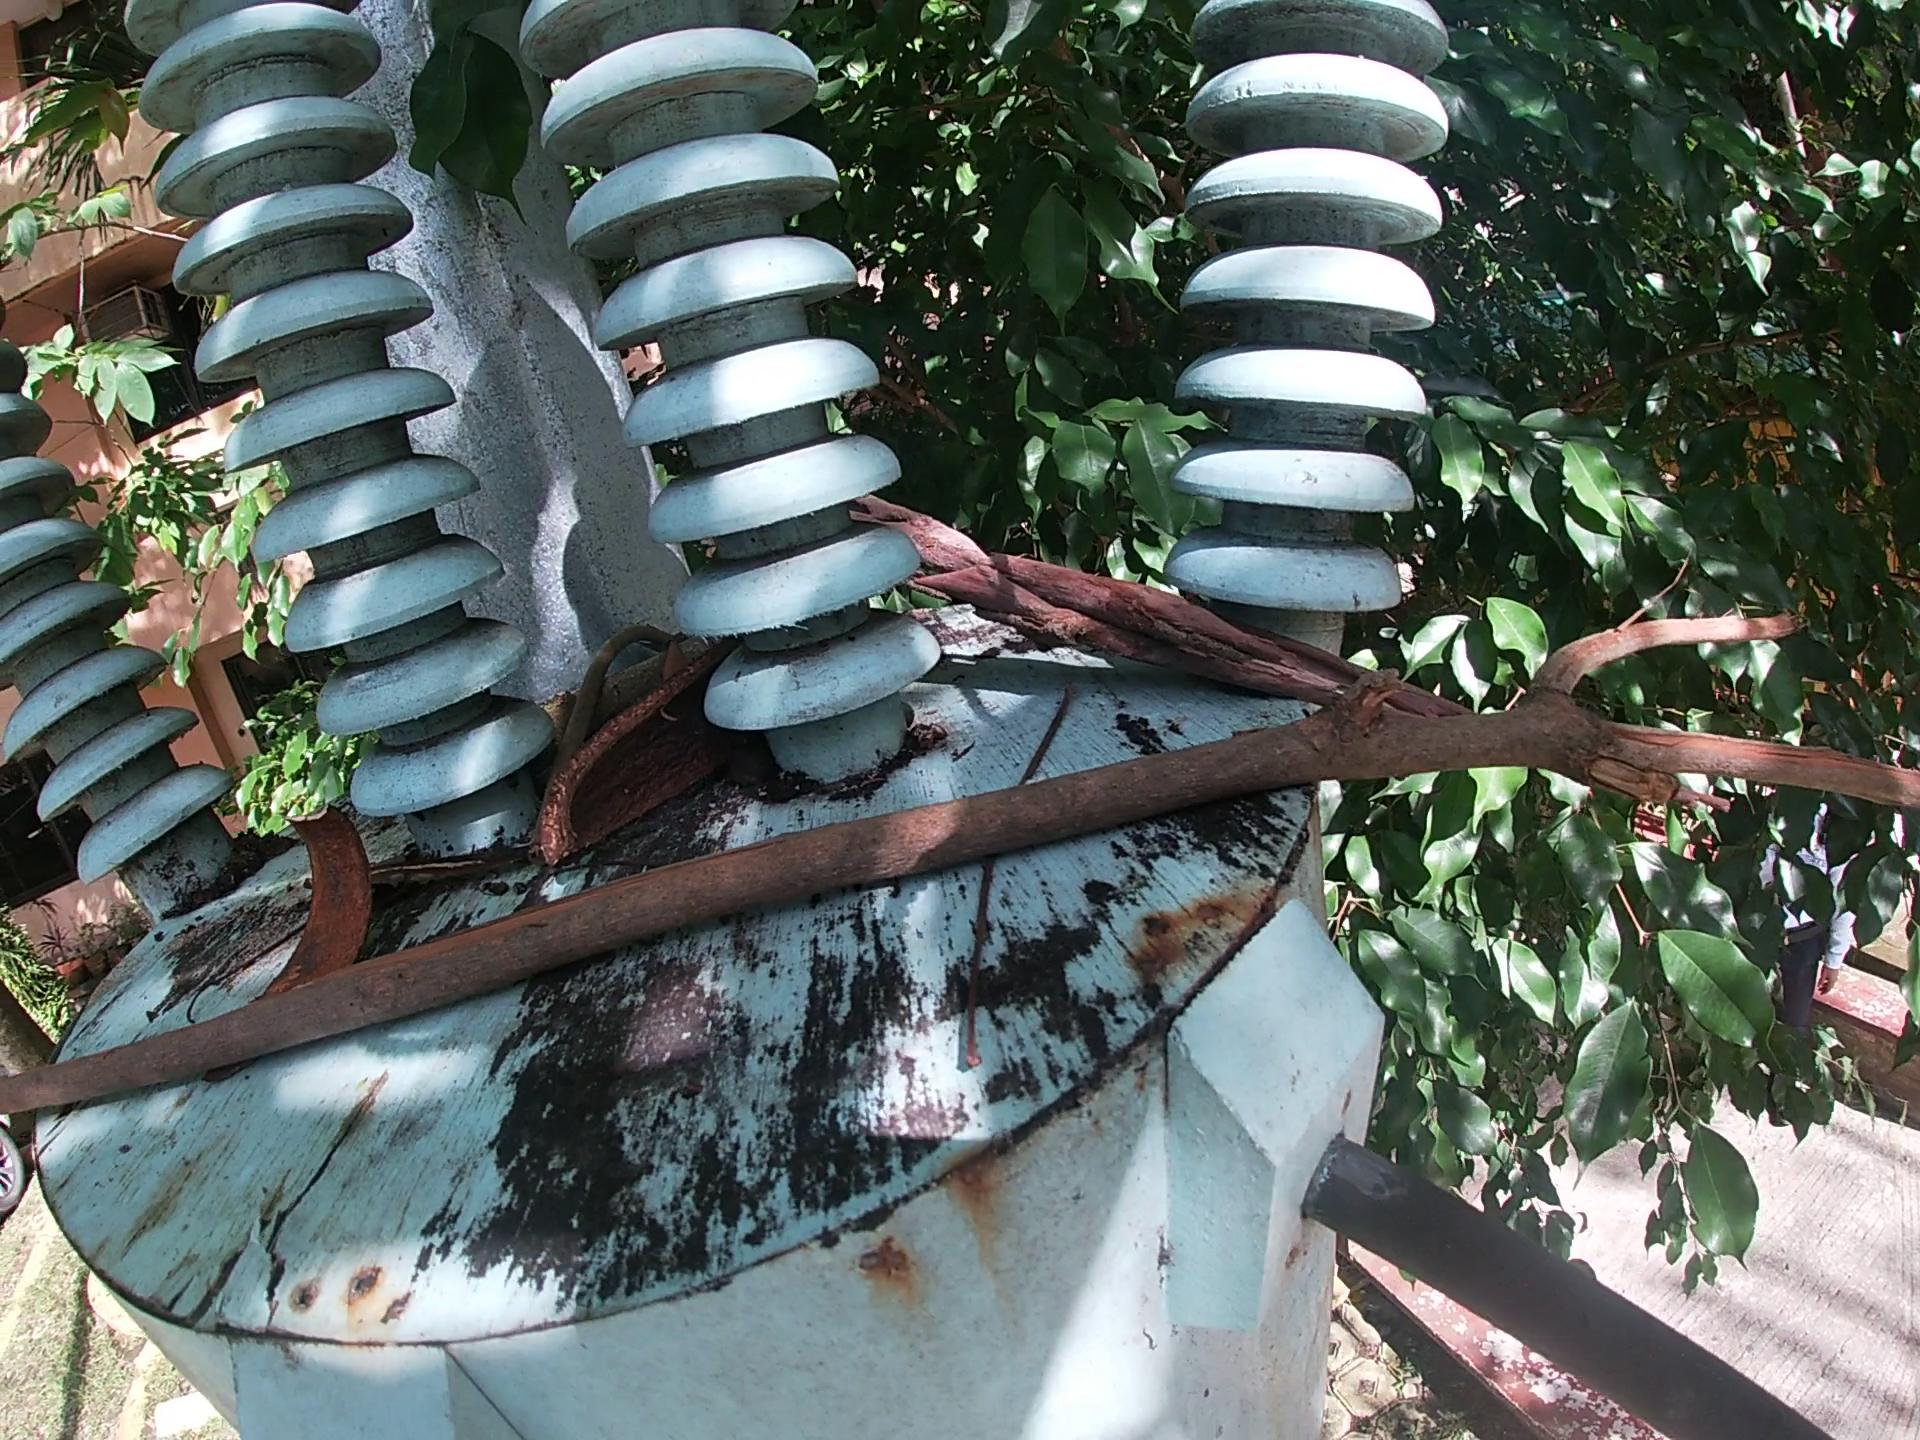leaf: (661, 634, 698, 678)
mahogany fruit: (541, 656, 730, 867), (248, 806, 373, 1010)
tree branch: (5, 570, 1920, 1199), (857, 493, 1401, 715), (928, 864, 1010, 1072), (535, 640, 723, 726), (562, 623, 676, 759), (998, 656, 1101, 774), (184, 929, 304, 1029), (367, 839, 509, 914), (526, 846, 686, 876)
